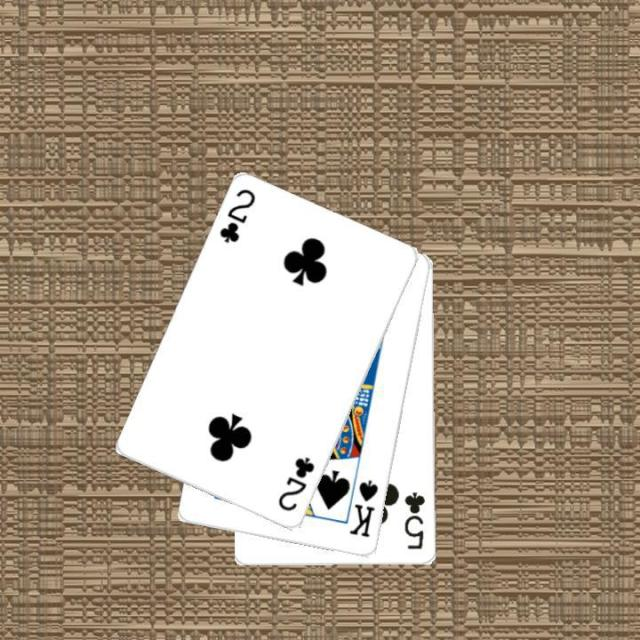2C: (274, 453, 316, 514), (216, 185, 258, 246)
5C: (401, 489, 427, 552)
KS: (346, 476, 380, 540)
